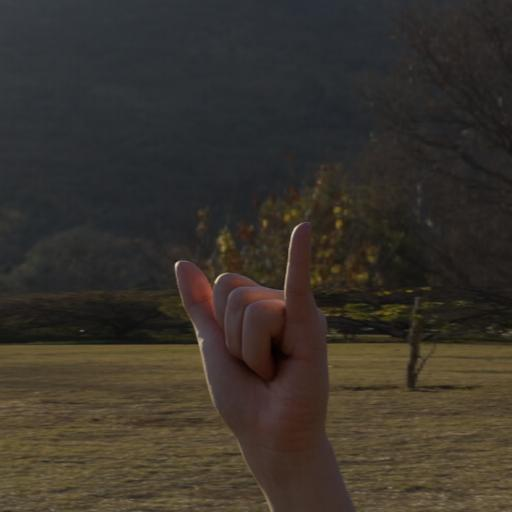Y: (164, 211, 357, 483)
